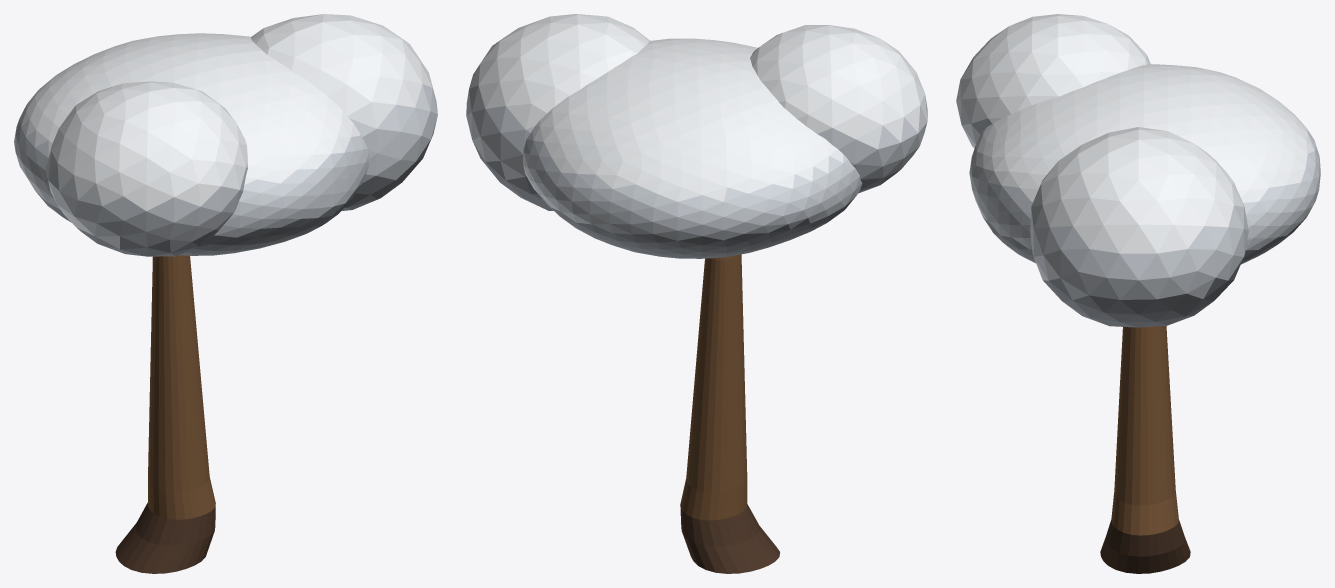
Rendered from BlossomTreeFar.obj.
3 views of the same model, side by side, from view 1: azimuth 30°, elevation 25°; view 2: azimuth 150°, elevation 25°; view 3: azimuth 270°, elevation 25° (orthographic).
Size of the model in its own units: 7.74 by 9.23 by 6.05.
